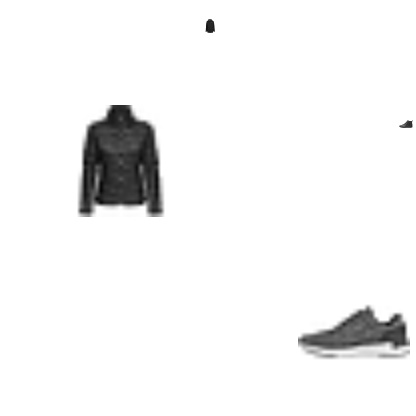Coat: (63, 105, 175, 217), (203, 19, 217, 33)
Sneaker: (298, 274, 410, 386), (399, 117, 413, 131)
